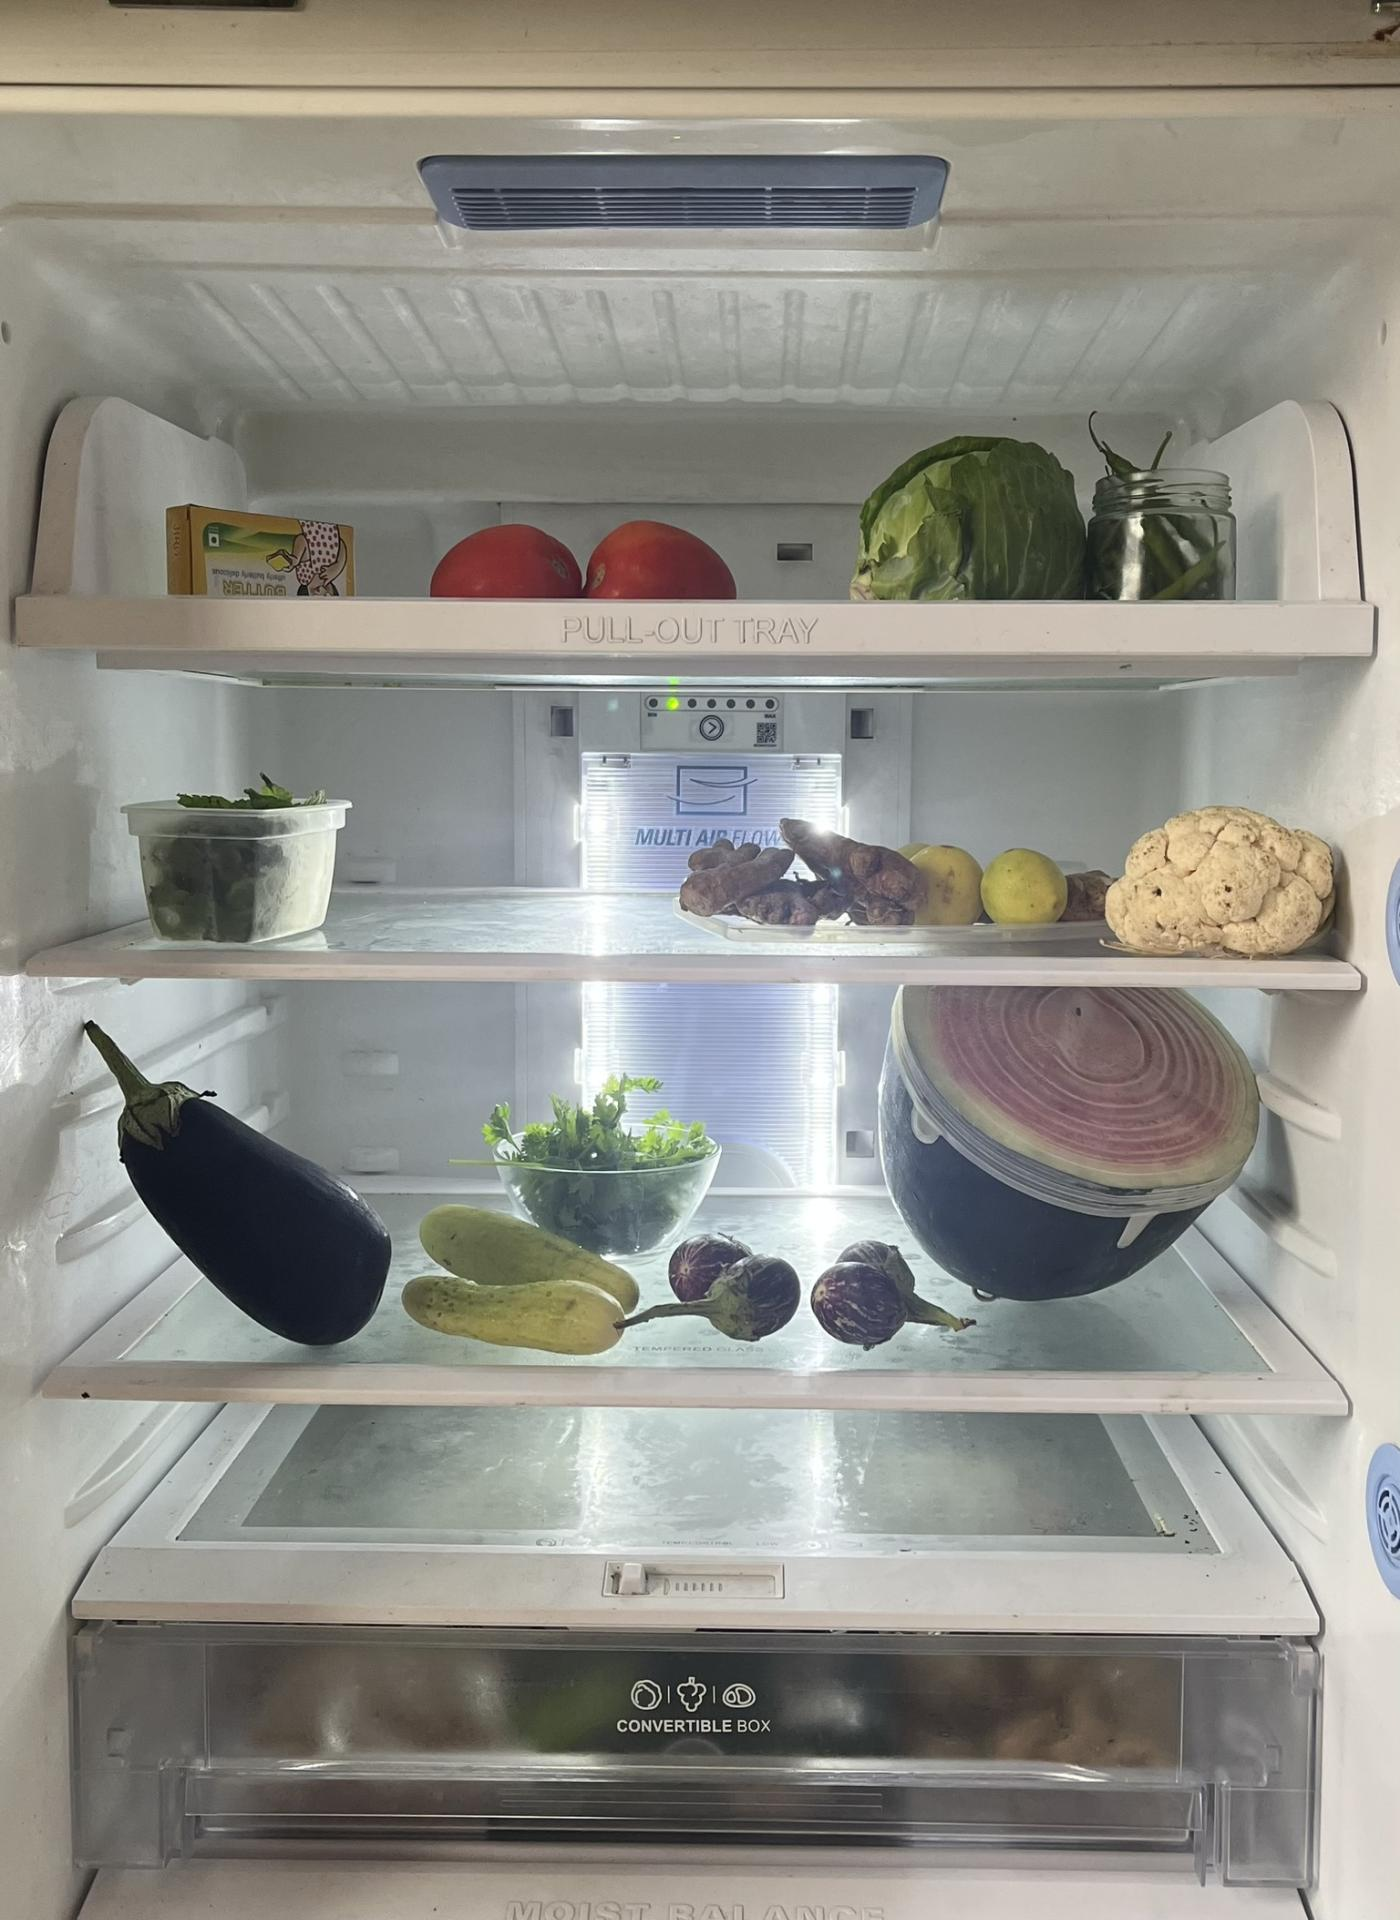basil: (137, 769, 349, 953)
butter: (155, 490, 371, 593)
cabbage: (850, 428, 1096, 593)
cauliflower: (1103, 787, 1337, 963)
chillies: (1081, 402, 1242, 604)
coriander: (471, 1046, 726, 1248)
cucumber: (389, 1209, 662, 1349)
ginger: (671, 818, 917, 935)
lemon: (902, 841, 1066, 941)
tomato: (425, 519, 744, 601)
watermelon: (854, 978, 1285, 1309)
